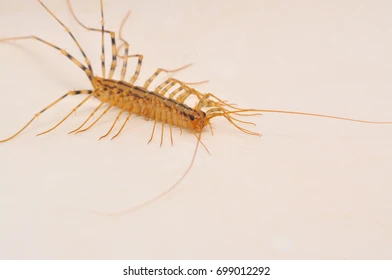centipede: (10, 12, 303, 187)
